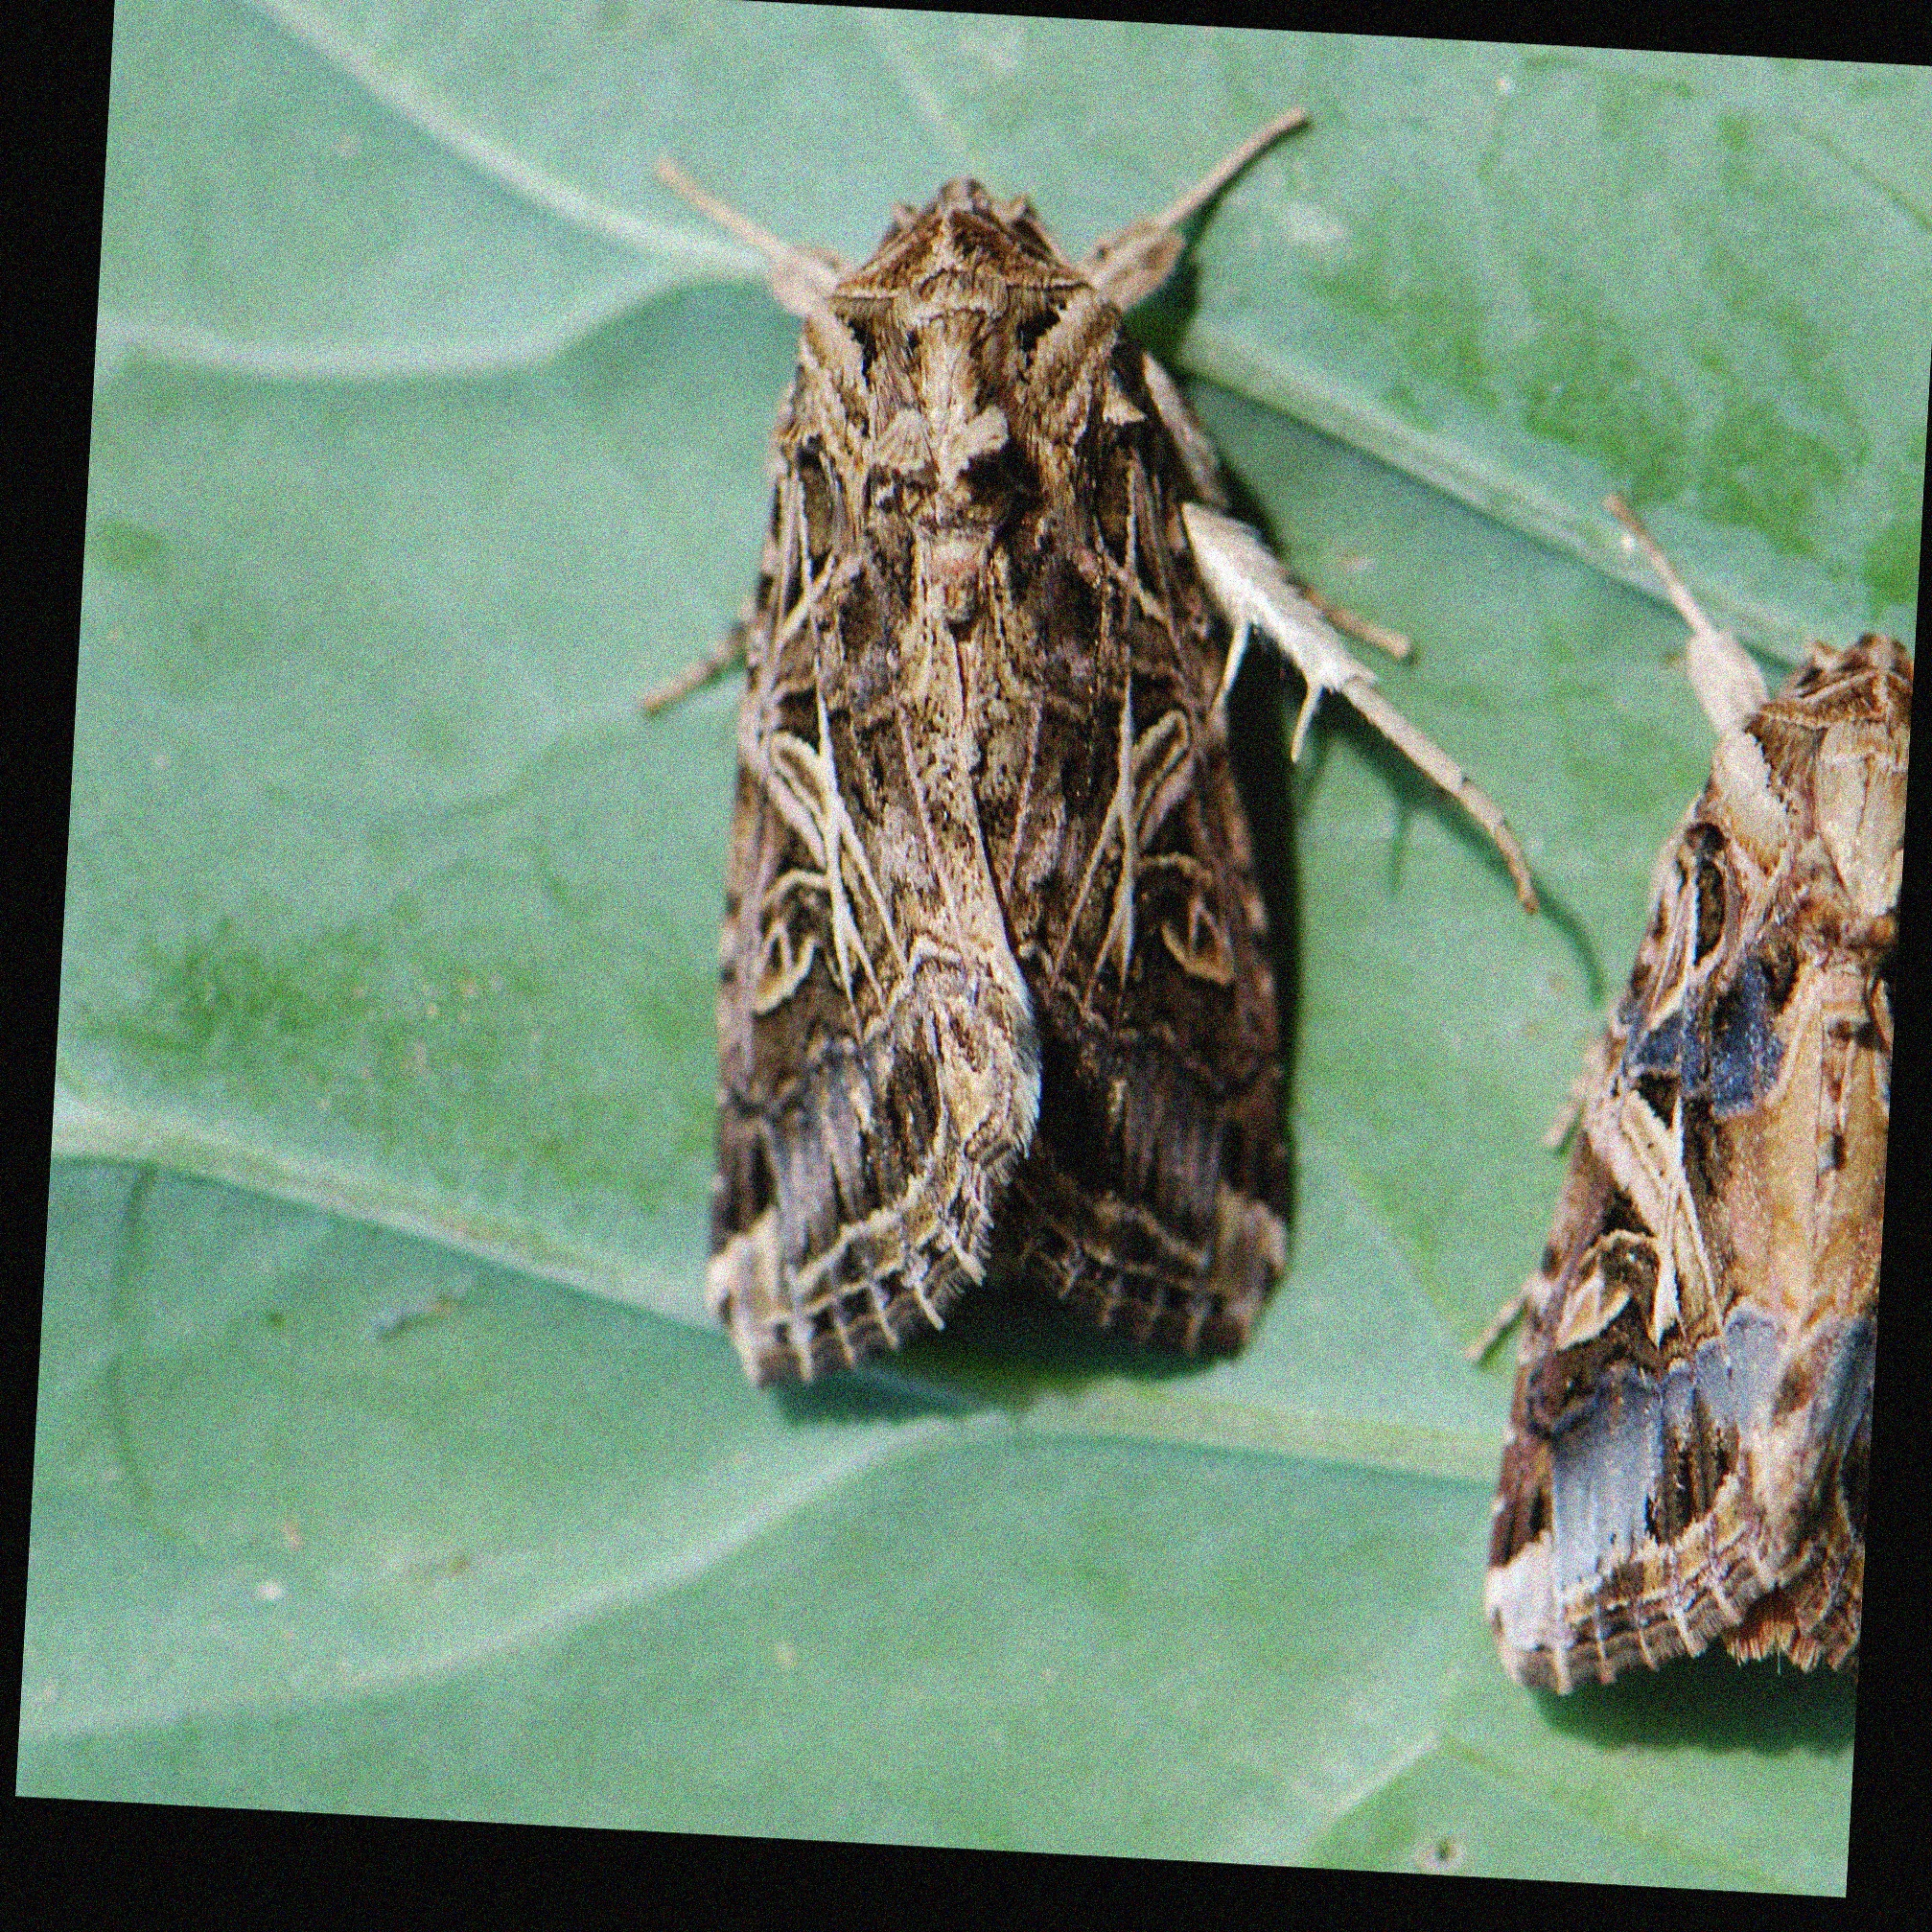Spodoptera litura: (619, 92, 1550, 1408), (1479, 497, 1890, 1704)
